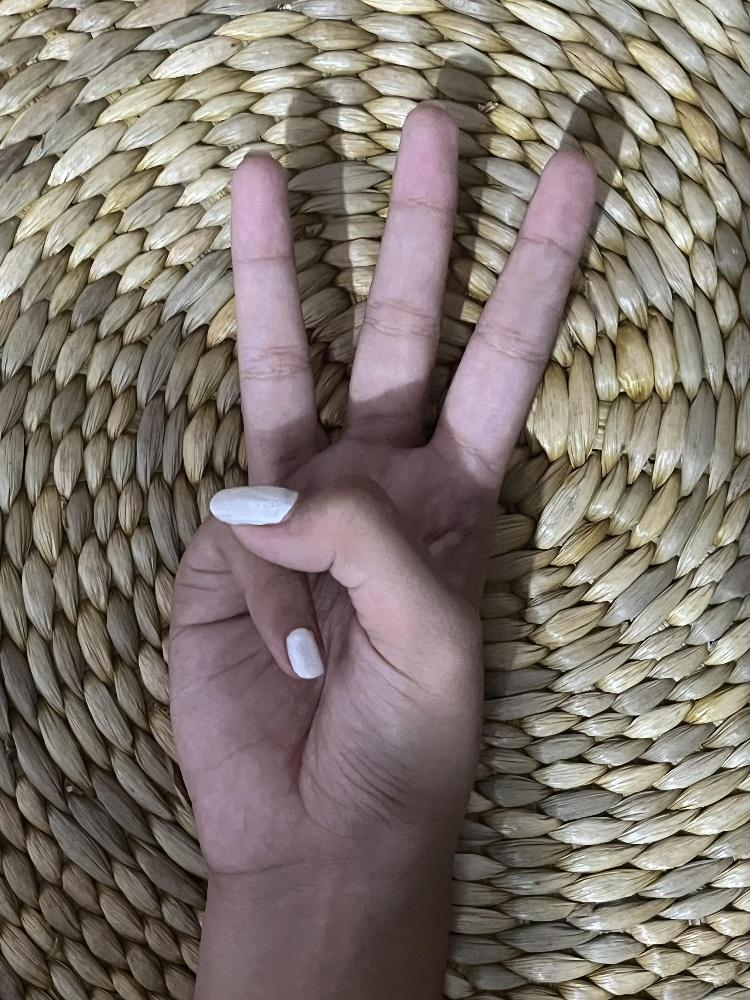w: (165, 96, 597, 872)
